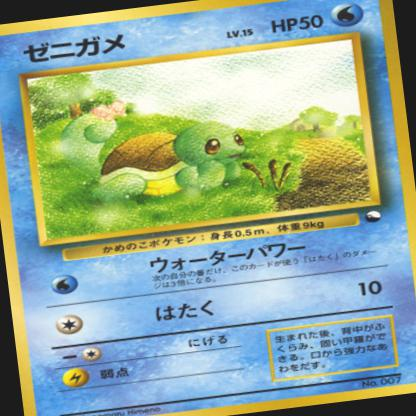Squirtle: (84, 109, 258, 213)
